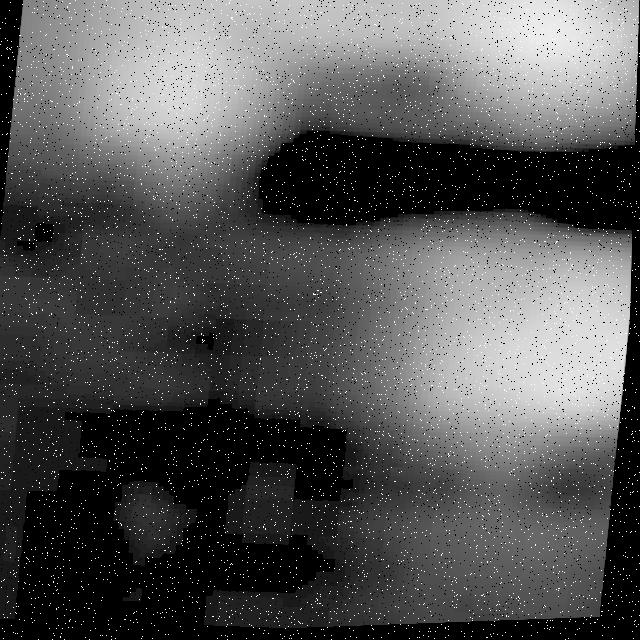person: (6, 1, 640, 205), (370, 231, 635, 474)
